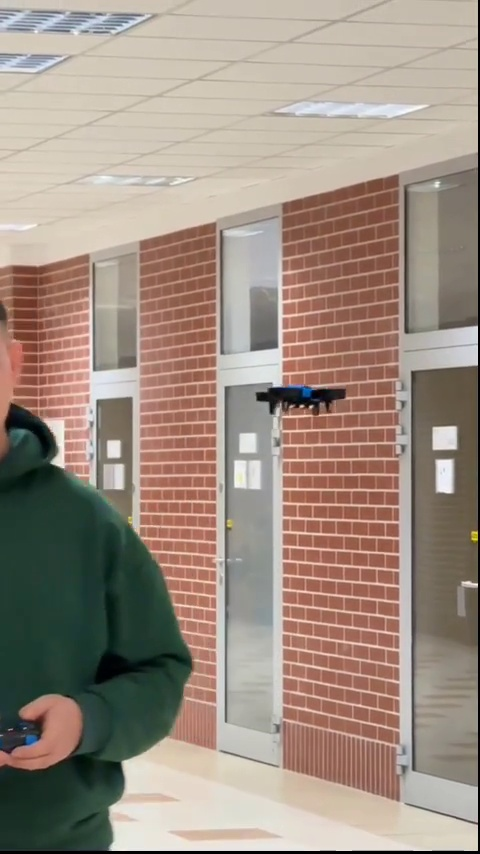drone: (254, 381, 345, 420)
no vest: (0, 299, 198, 854)
